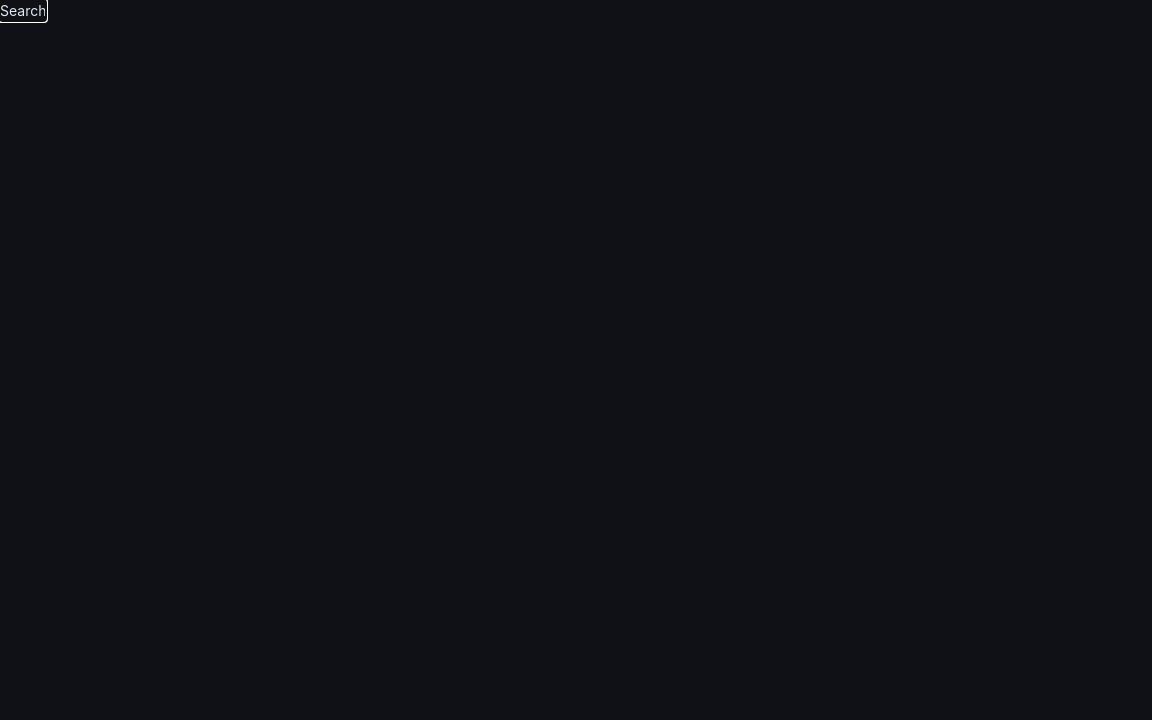
Test case: CommandPalette › puts the cursor in the search field under React StrictMode, so typing works in dev
The width and height of the screenshot is (1152, 720).
Press k
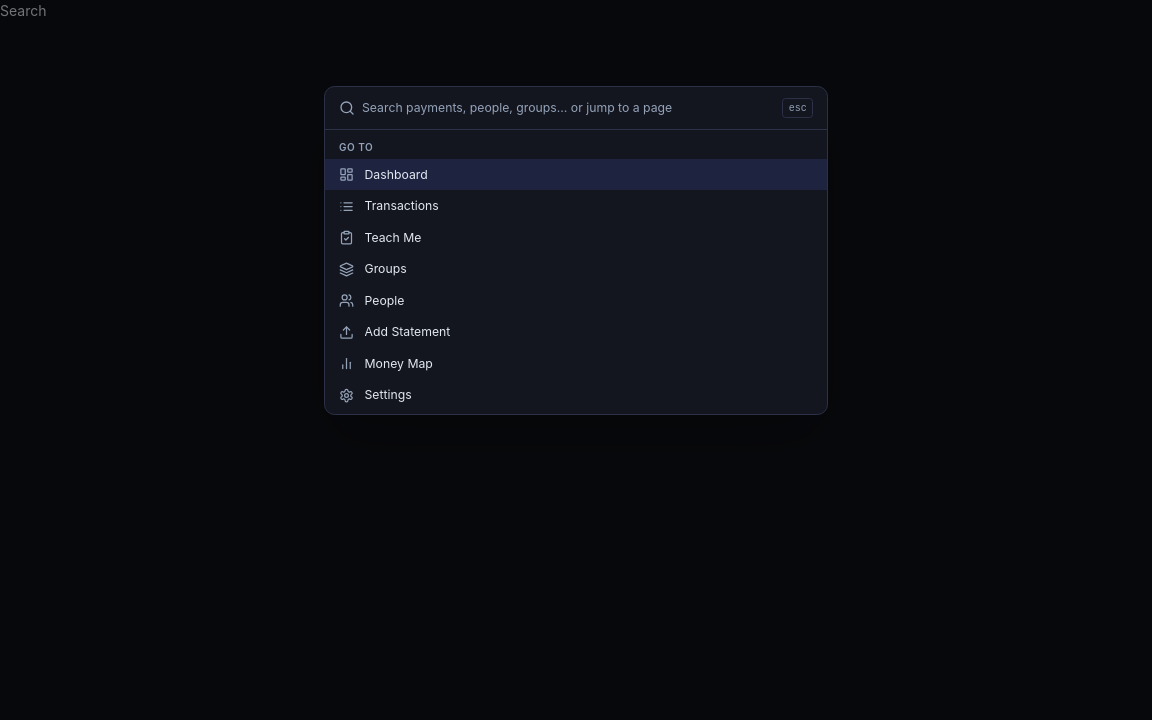
Type "swiggy" into the dropdown with placeholder "Search payments, people, groups… or jump to a page" at (569, 108), box [362,99,776,117]
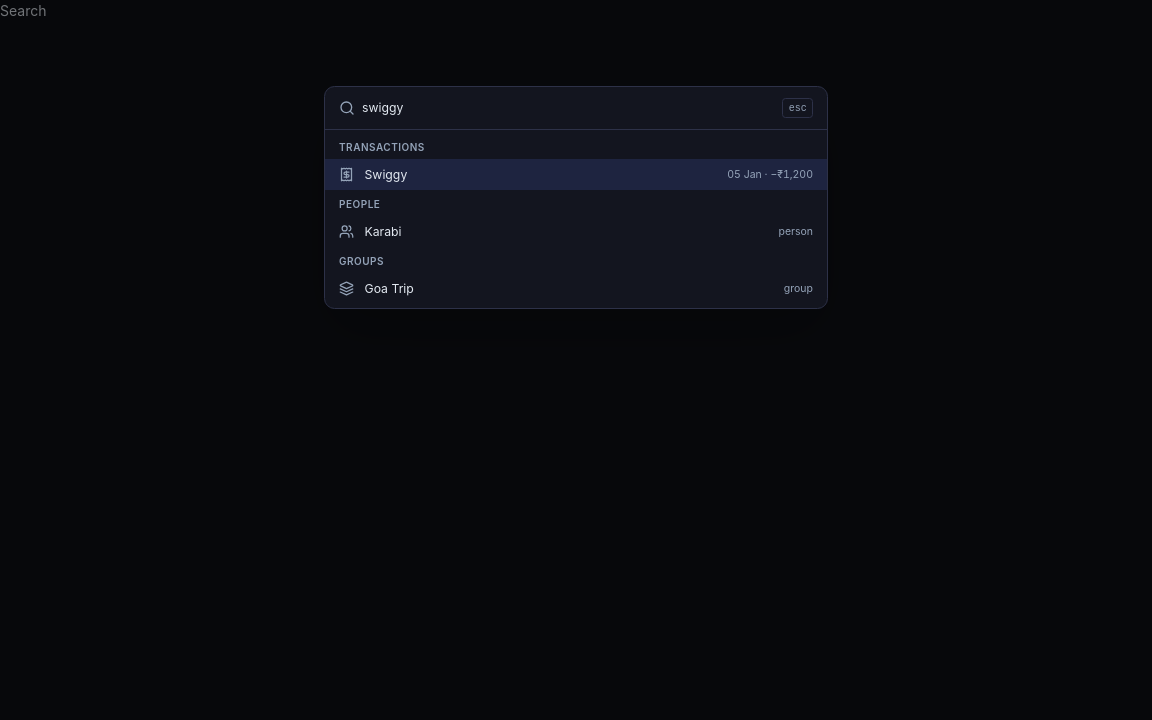
Check: the text "Karabi" is shown, box [364,224,402,239]
